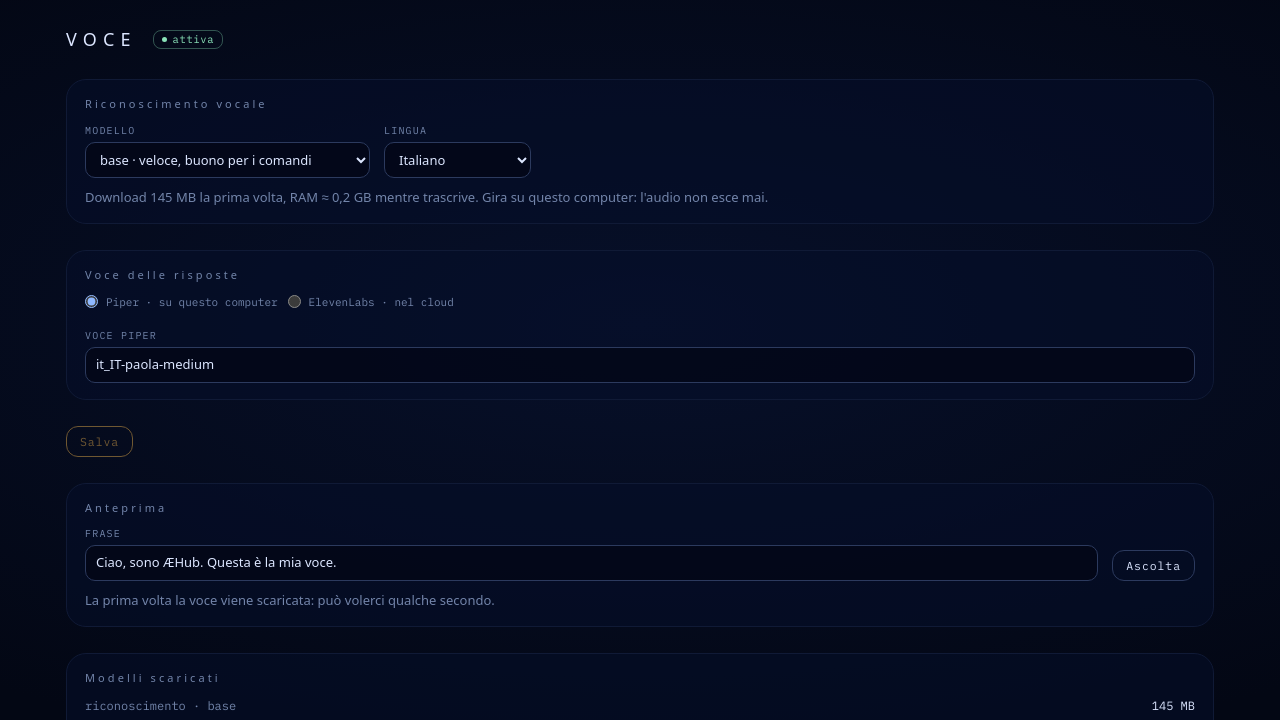
Scenario: VoicePage › saves the recognition model and shows the models on disk
Expected: the text "attiva" is shown, [152, 30, 223, 49]
Expected: the text "riconoscimento · base" is shown, [85, 697, 236, 715]
Select "small · più preciso, ancora rapido" in the dropdown labelled "Modello" at (228, 160), box [85, 142, 370, 178]
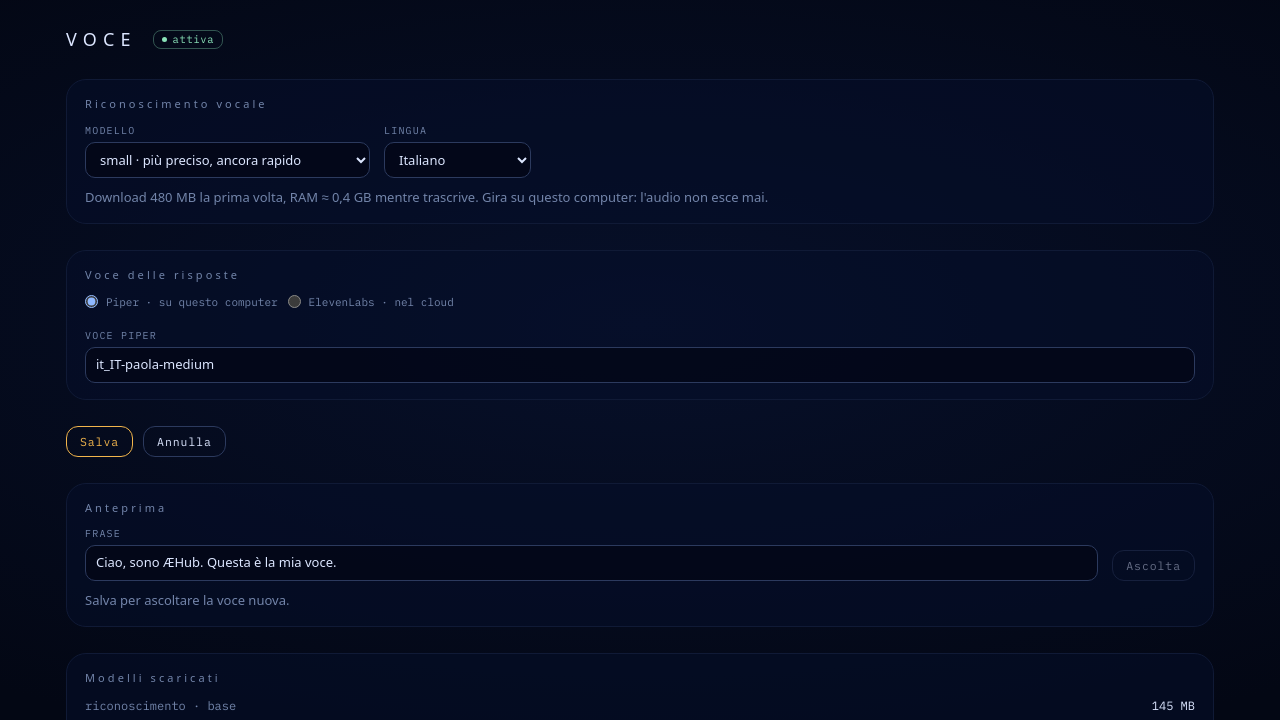
Expected: the text "Download 480 MB" is shown, [85, 188, 768, 206]
Expected: the button "Ascolta" is disabled, [1112, 550, 1195, 581]
Click the button "Salva" at (100, 441), box [66, 426, 133, 457]
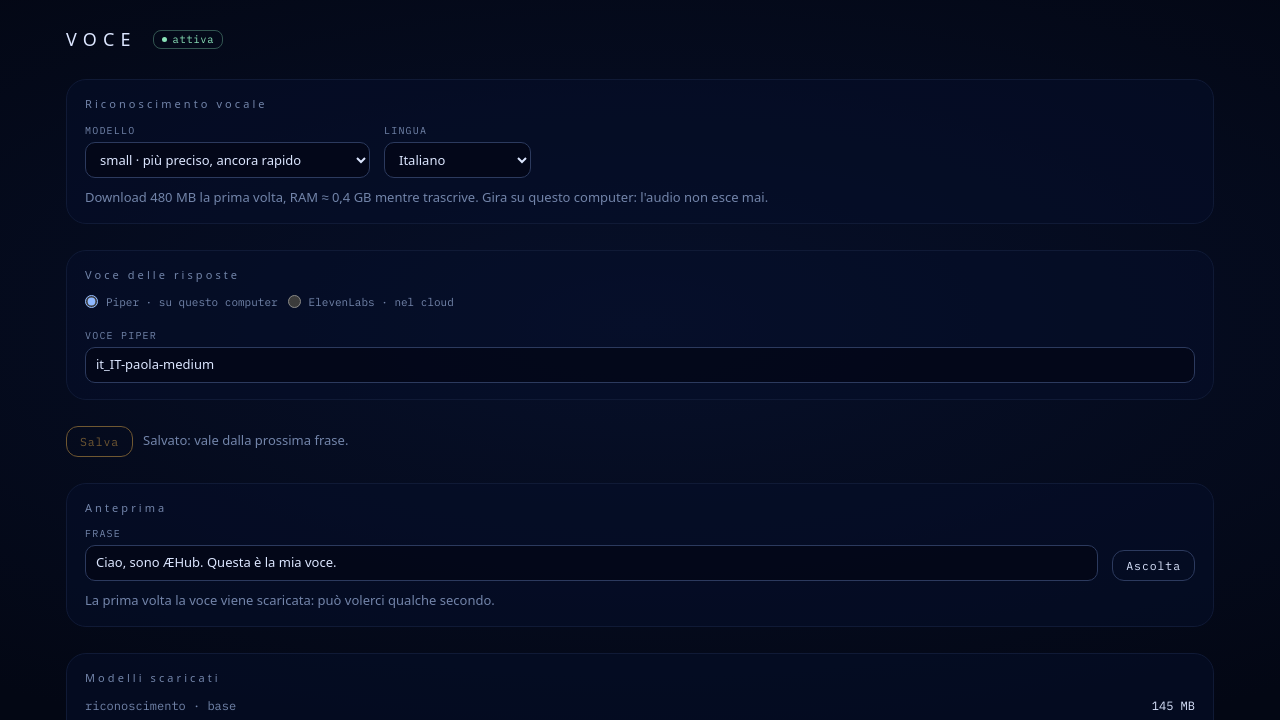
Expected: the text "Salvato: vale dalla prossima frase." is shown, [143, 431, 348, 451]
